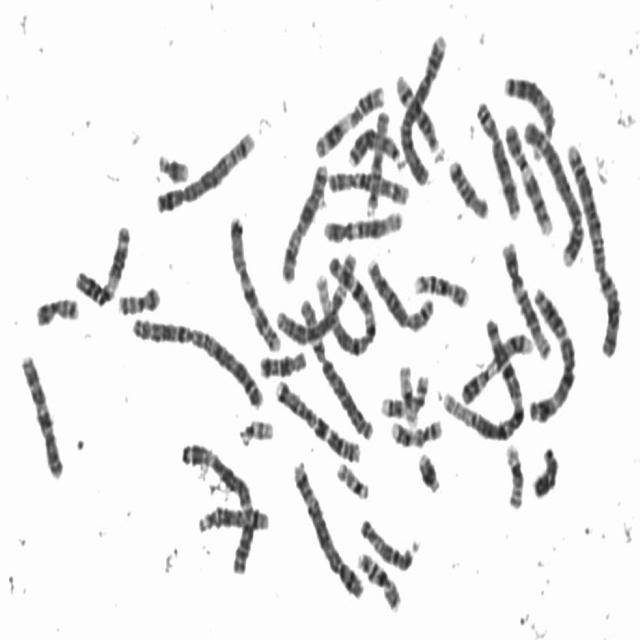A1: (440, 315, 529, 443), (315, 250, 380, 357)
A2: (125, 306, 266, 412), (563, 134, 624, 358)
A3: (178, 433, 256, 576), (524, 279, 578, 425)
B4: (520, 110, 587, 267), (394, 25, 450, 187)
B5: (288, 451, 366, 602), (151, 122, 257, 215)
C10: (16, 344, 66, 482), (323, 161, 413, 207)
C11: (310, 75, 388, 160), (70, 215, 133, 309)
C12: (496, 231, 554, 361), (319, 202, 405, 244)
C6: (295, 288, 375, 442), (270, 243, 360, 348)
C7: (271, 370, 363, 464), (225, 208, 282, 354)
C8: (472, 90, 523, 221), (363, 250, 437, 333)
C9: (499, 114, 556, 237), (456, 322, 534, 408)
D13: (500, 68, 557, 140), (343, 119, 406, 170)
D14: (390, 64, 442, 155), (192, 496, 272, 536)
D15: (356, 510, 420, 572), (362, 102, 391, 217)
E16: (353, 543, 404, 614), (410, 264, 471, 310)
E17: (376, 366, 431, 419), (386, 409, 444, 448)
E18: (444, 150, 491, 222), (255, 341, 309, 379)
F19: (501, 436, 526, 512), (395, 355, 421, 428)
F20: (31, 287, 82, 328), (114, 276, 162, 316)
G21: (153, 142, 192, 186), (414, 444, 444, 496)
G22: (332, 454, 372, 501), (234, 410, 276, 448)
X: (276, 154, 331, 285)
Y: (528, 438, 561, 500)
